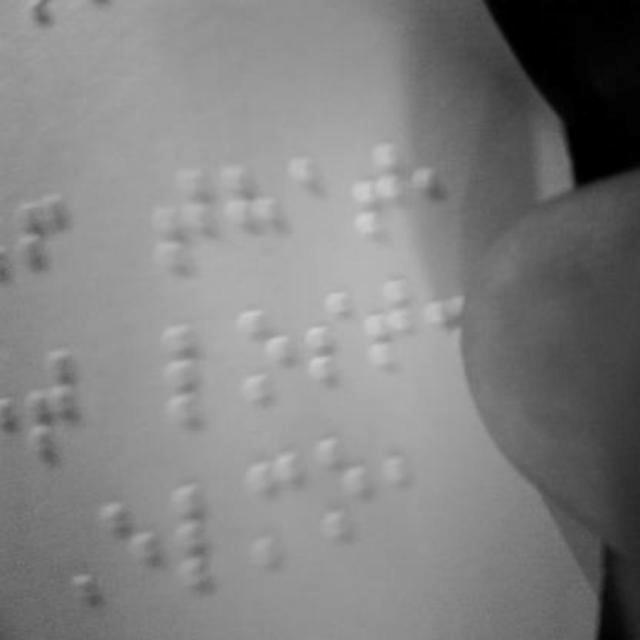braiile: (172, 474, 236, 596), (99, 490, 165, 600), (24, 346, 86, 462), (310, 432, 372, 544), (15, 188, 75, 302), (362, 270, 420, 386), (248, 454, 302, 568), (153, 172, 211, 278), (233, 305, 294, 403), (286, 148, 340, 258), (163, 318, 221, 419), (225, 162, 277, 272), (352, 140, 402, 254), (302, 287, 356, 391)
